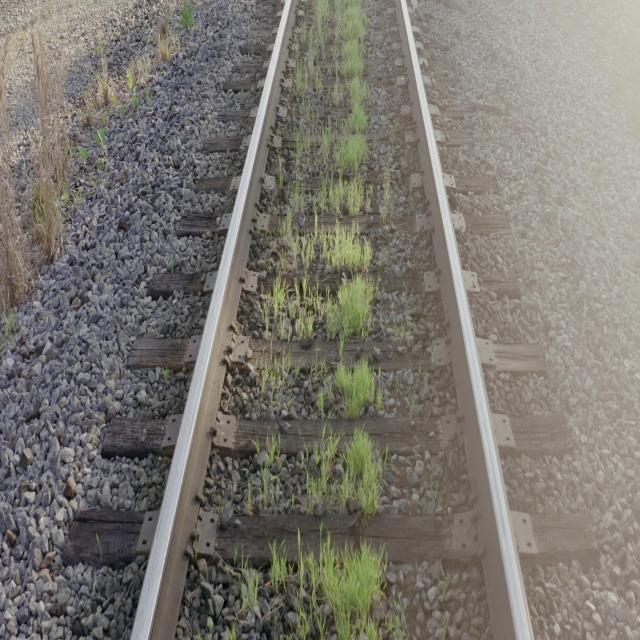Plant: (261, 0, 376, 340), (289, 536, 384, 638), (301, 429, 381, 518), (334, 358, 380, 418), (256, 444, 280, 507), (260, 358, 289, 409), (270, 549, 290, 596), (241, 569, 260, 613)
